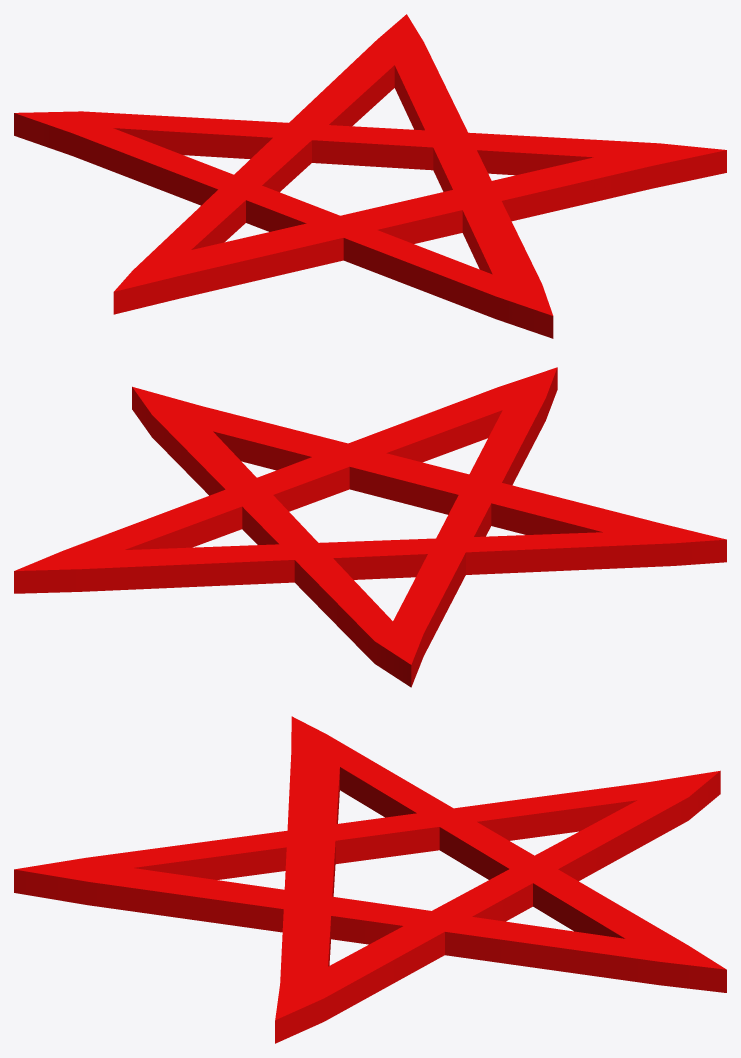
File: pentagram.FBX
3 renders of one model, top to bottom at view 1: azimuth 30°, elevation 25°; view 2: azimuth 150°, elevation 25°; view 3: azimuth 270°, elevation 25°, orthographic. The views are drawn at different scales.
Parts seen in each view (by area): view 1: pentagram; view 2: pentagram; view 3: pentagram.
Boxes of the visible parts, box(x1,y1,x2,y2) form: pentagram: box(14, 14, 726, 338); pentagram: box(14, 367, 726, 687); pentagram: box(14, 716, 726, 1043).
Bounding box in the file's own units: 1020 × 36.68 × 1010.
